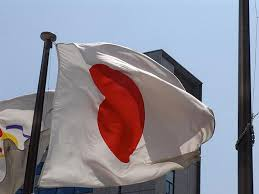Japanese Flag: (40, 37, 224, 191)
